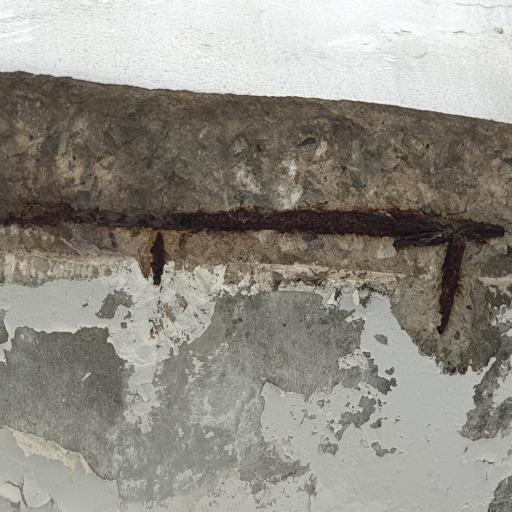exposed_rebar: (109, 208, 505, 332), (150, 231, 166, 284)
